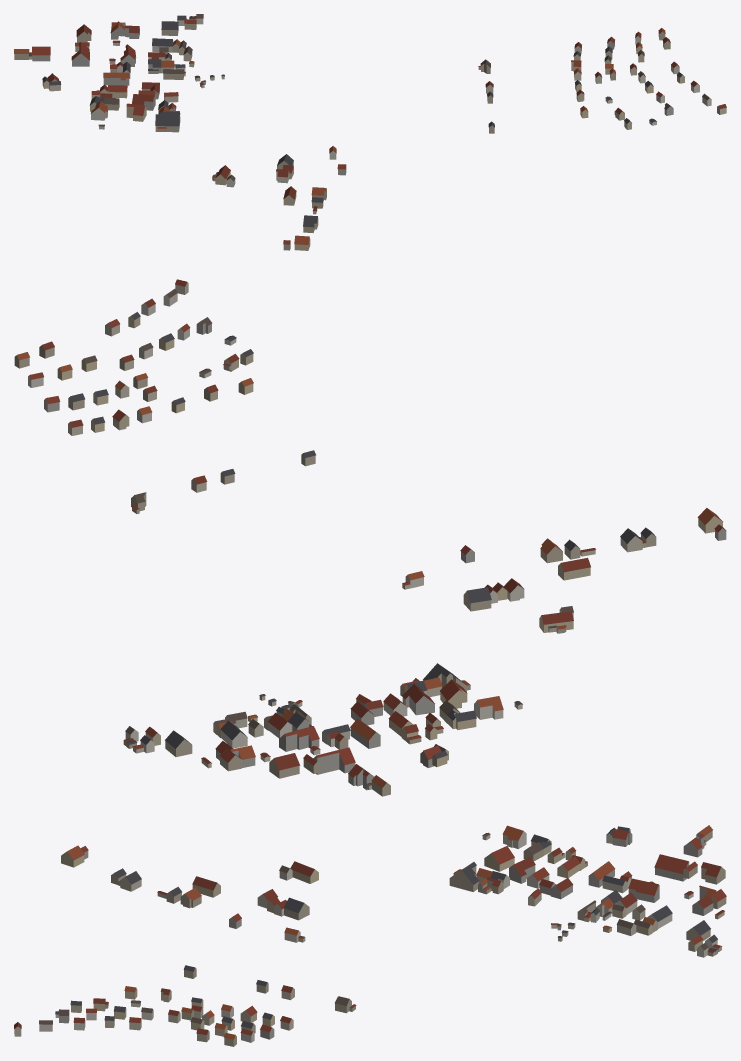
The picture shows the model from 3 angles, top to bottom: view 1: azimuth 30°, elevation 25°; view 2: azimuth 150°, elevation 25°; view 3: azimuth 270°, elevation 25°; orthographic projection. The views are drawn at different scales.
Parts seen in each view (by area): view 1: buildings; view 2: buildings; view 3: buildings.
Part boxes in pixels (x1=…): buildings: x1=14, y1=14, x2=726, y2=250; buildings: x1=14, y1=279, x2=726, y2=796; buildings: x1=14, y1=825, x2=726, y2=1046.
Bounding box in the file's own units: 473 × 72.95 × 511.
